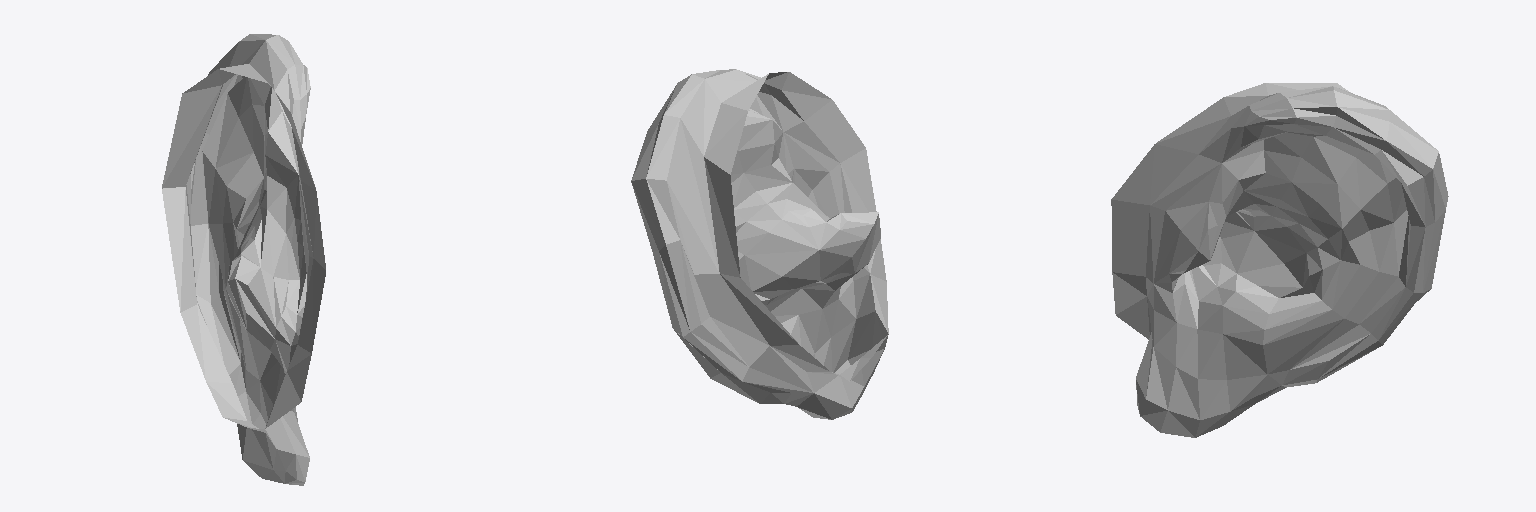
The model's file is ear.obj.
The picture shows the model from 3 angles: view 1: azimuth 30°, elevation 25°; view 2: azimuth 150°, elevation 25°; view 3: azimuth 270°, elevation 25°; orthographic projection.
Size of the model in its own units: 1.55 by 4.17 by 3.36.